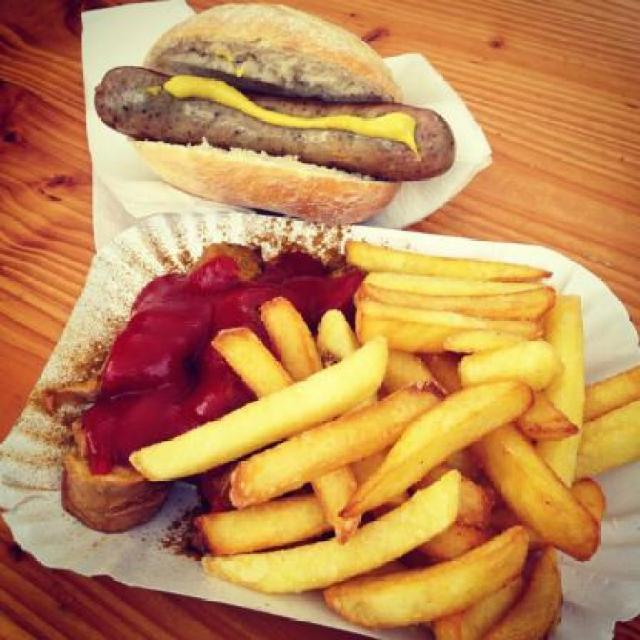Hot dog: (88, 0, 457, 234)
